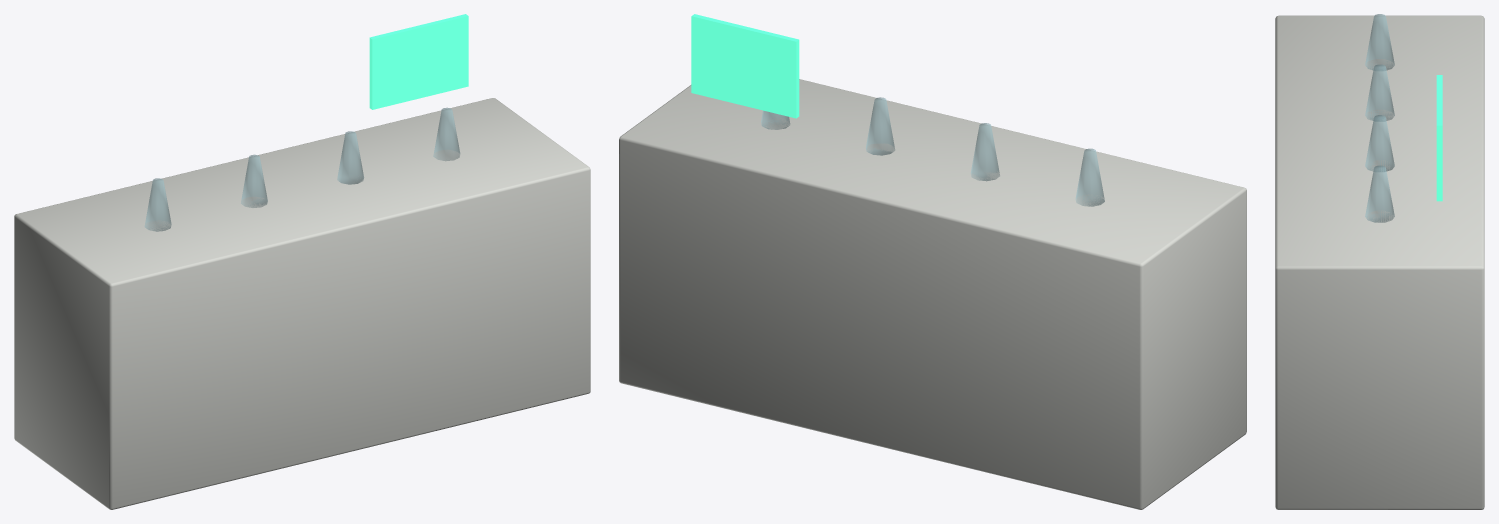
Rendered from lab_bench.gltf.
The picture shows the model from 3 angles, left to right: view 1: azimuth 30°, elevation 25°; view 2: azimuth 150°, elevation 25°; view 3: azimuth 270°, elevation 25°; orthographic projection. The views are drawn at different scales.
Visible parts, largest first — view 1: lab_bench_mesh, EMIT_screen; view 2: lab_bench_mesh, EMIT_screen; view 3: lab_bench_mesh, EMIT_screen.
Part boxes in pixels (x1,y1,x2,y2): lab_bench_mesh: (14,98,590,509); EMIT_screen: (369,14,468,109); lab_bench_mesh: (619,79,1246,509); EMIT_screen: (691,14,799,118); lab_bench_mesh: (1275,14,1484,509); EMIT_screen: (1436,75,1442,201).
Size of the model in its own units: 2 by 1.33 by 0.7.
